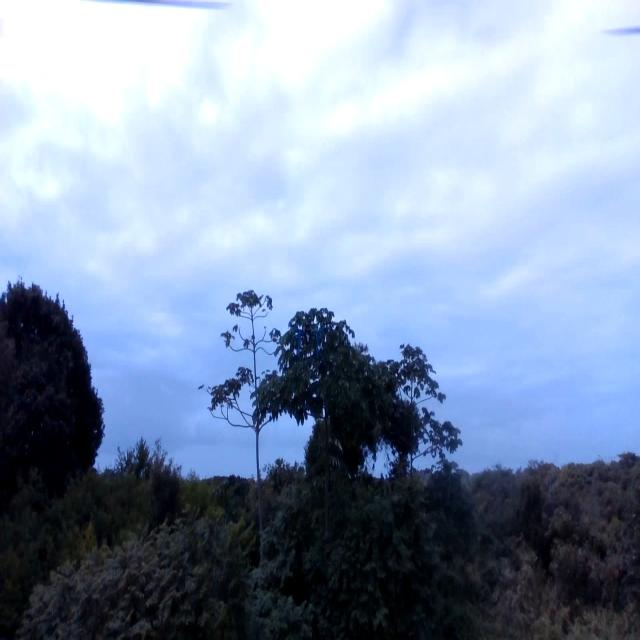-uav-: (293, 325, 323, 365)
